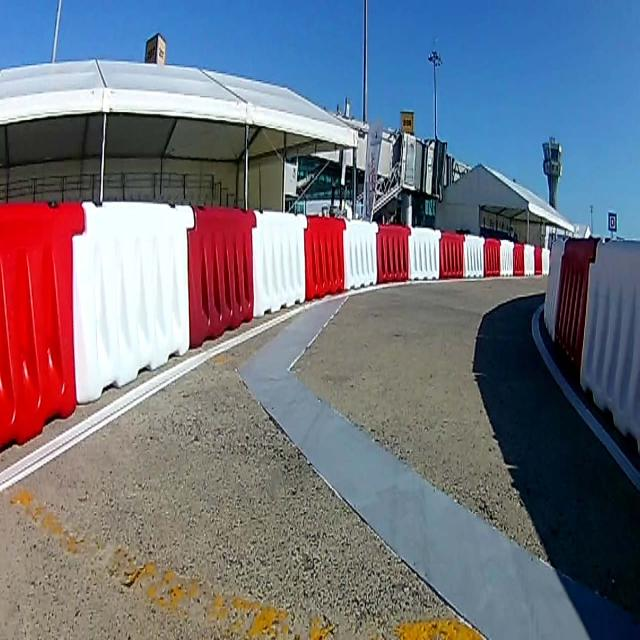durak: (608, 212, 616, 228)
